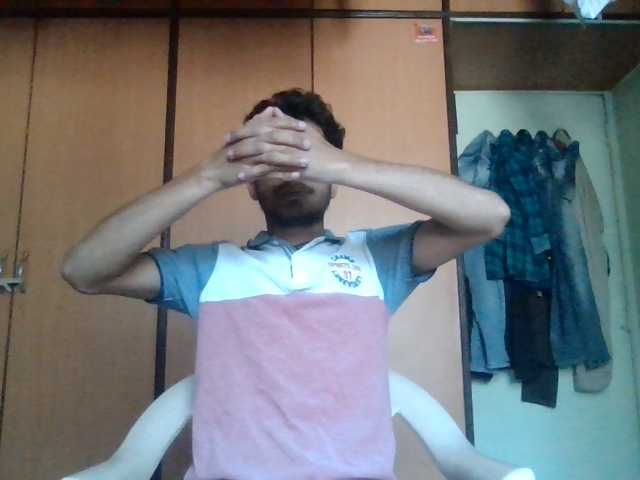good: (196, 91, 341, 218)
